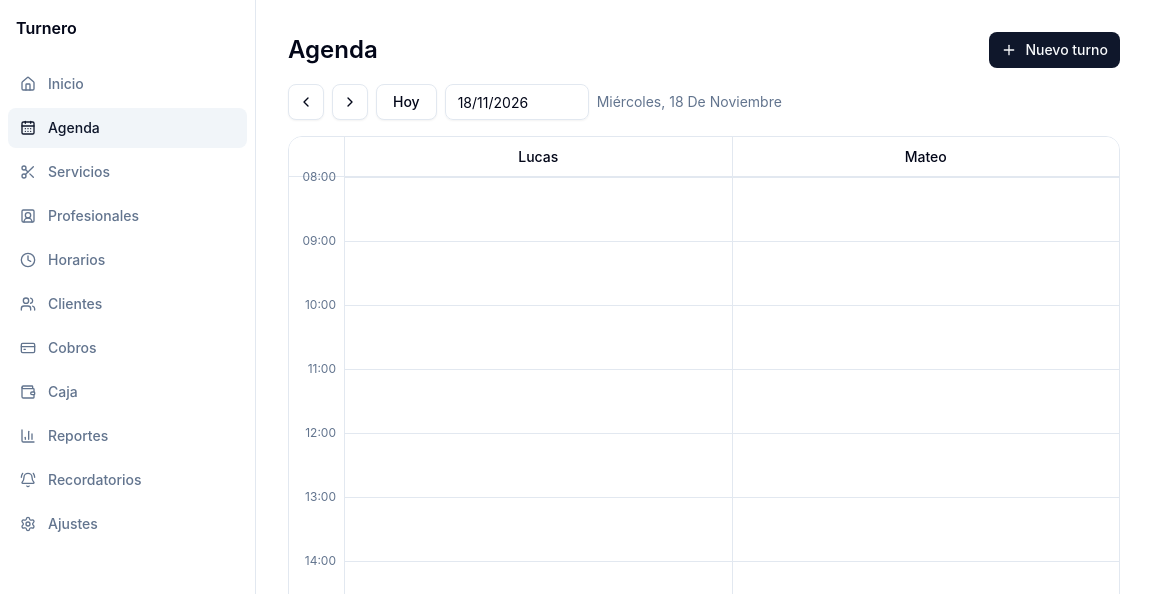
Test: agenda page › validates required fields in Spanish
Click the button named "Agendar con Lucas a las 09:00": point(538, 257) top-left (345, 241), bottom-right (732, 273)
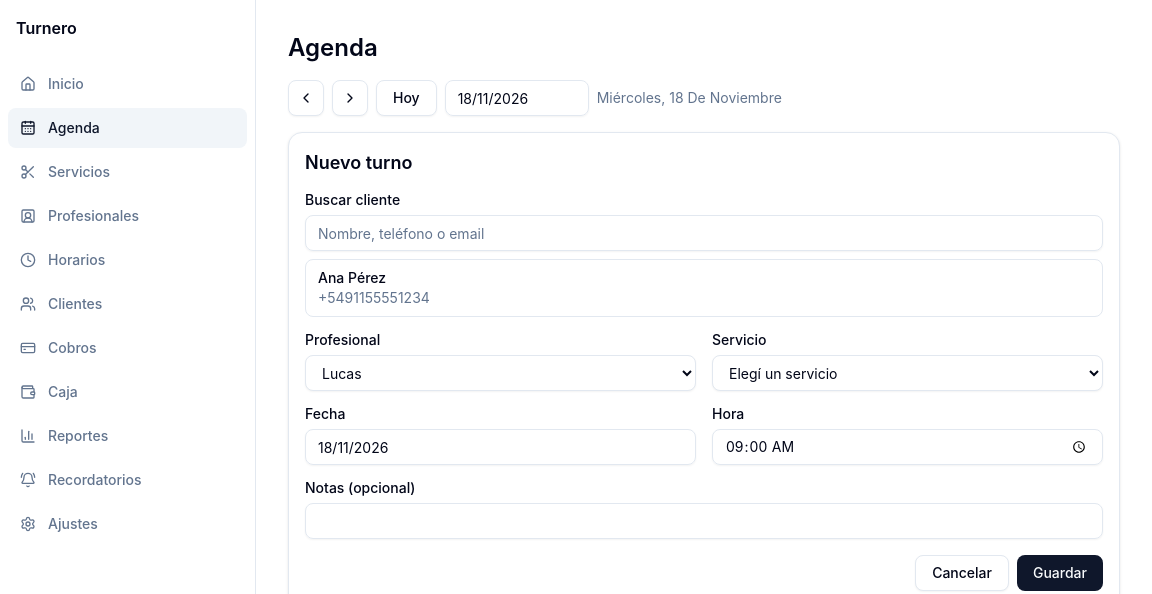
Click the button "Guardar": point(1060, 573) top-left (1017, 555), bottom-right (1103, 591)
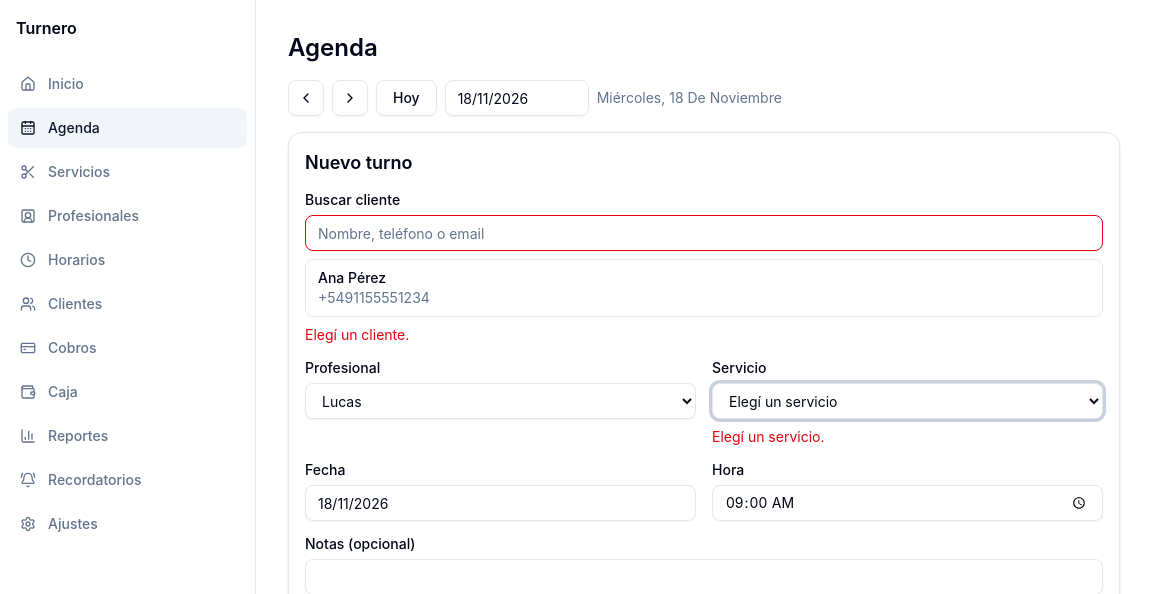
Check: the text "Elegí un cliente." is shown, box top-left (305, 326), bottom-right (409, 343)
Check: the text "Elegí un servicio." is shown, box top-left (712, 428), bottom-right (824, 445)
